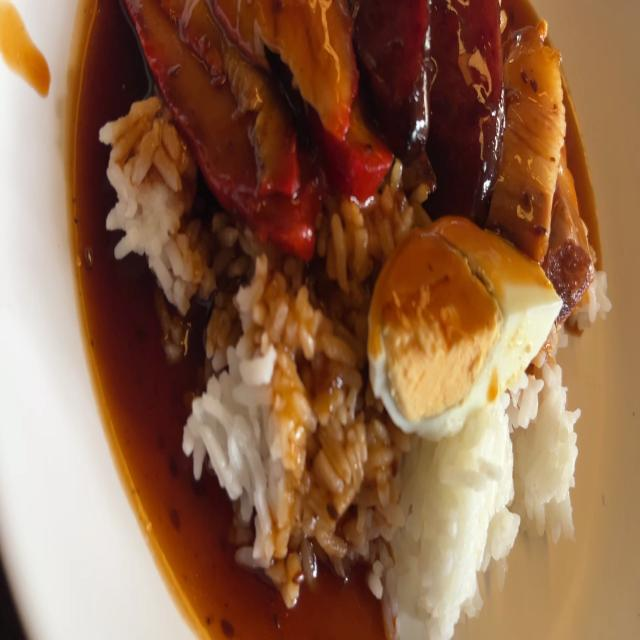01boiled_egg: (370, 224, 555, 436)
01chainese_sausage: (350, 0, 508, 218), (434, 0, 507, 218), (357, 0, 431, 159)
01crispy_pork: (500, 22, 596, 320), (500, 21, 559, 240), (550, 159, 594, 309)
01red_pork: (136, 0, 372, 248), (170, 0, 300, 193), (252, 0, 362, 136), (330, 104, 380, 205), (210, 0, 264, 71)
01red_pork_and_crispy_pork: (99, 0, 614, 640)
01rice: (180, 254, 366, 573), (358, 440, 518, 640), (100, 97, 198, 300), (518, 358, 590, 528), (576, 276, 612, 328)
